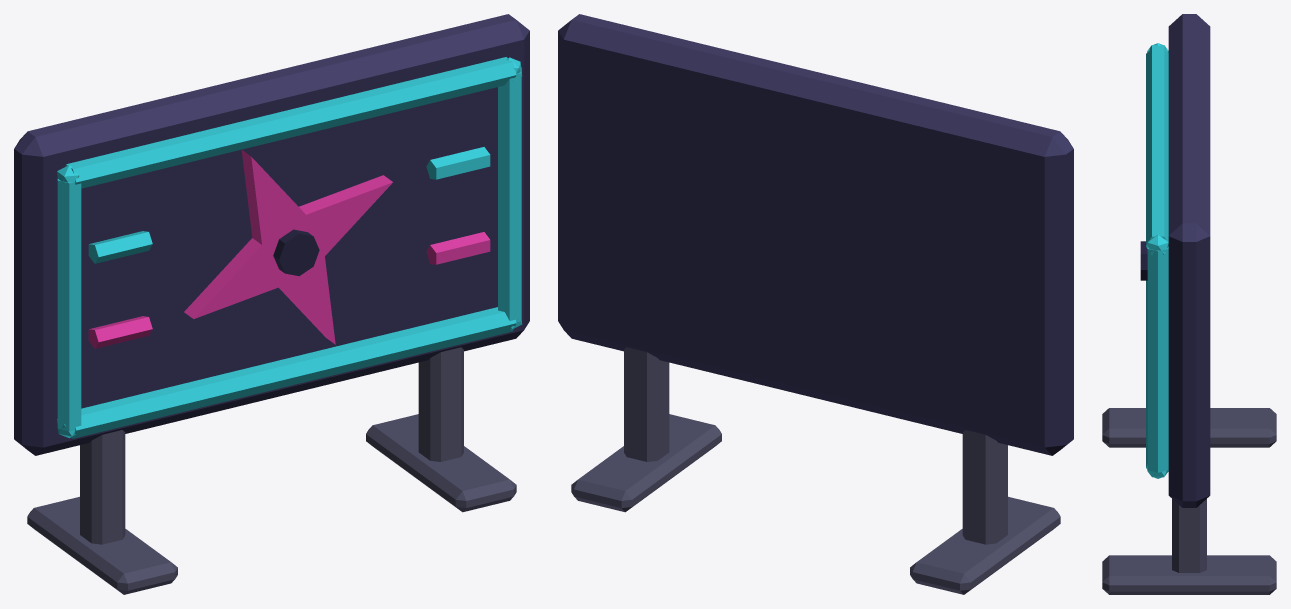
File: habitat_prop_cyber_ninja.fbx
3 renders of one model, left to right at view 1: azimuth 30°, elevation 25°; view 2: azimuth 150°, elevation 25°; view 3: azimuth 270°, elevation 25°, orthographic. The views are drawn at different scales.
Parts seen in each view (by area): view 1: habitat_prop_cyber_ninja; view 2: habitat_prop_cyber_ninja; view 3: habitat_prop_cyber_ninja.
Part boxes in pixels (<box>): habitat_prop_cyber_ninja: <box>14,14,529,594</box>; habitat_prop_cyber_ninja: <box>558,14,1073,594</box>; habitat_prop_cyber_ninja: <box>1102,14,1276,594</box>.
Bounding box in the file's own units: 1.5 × 1.24 × 0.5.
